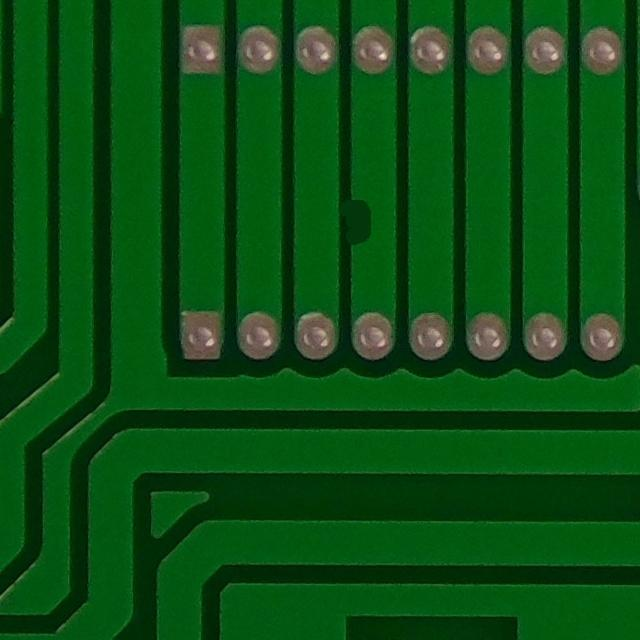mouse_bite: (331, 181, 390, 261)
